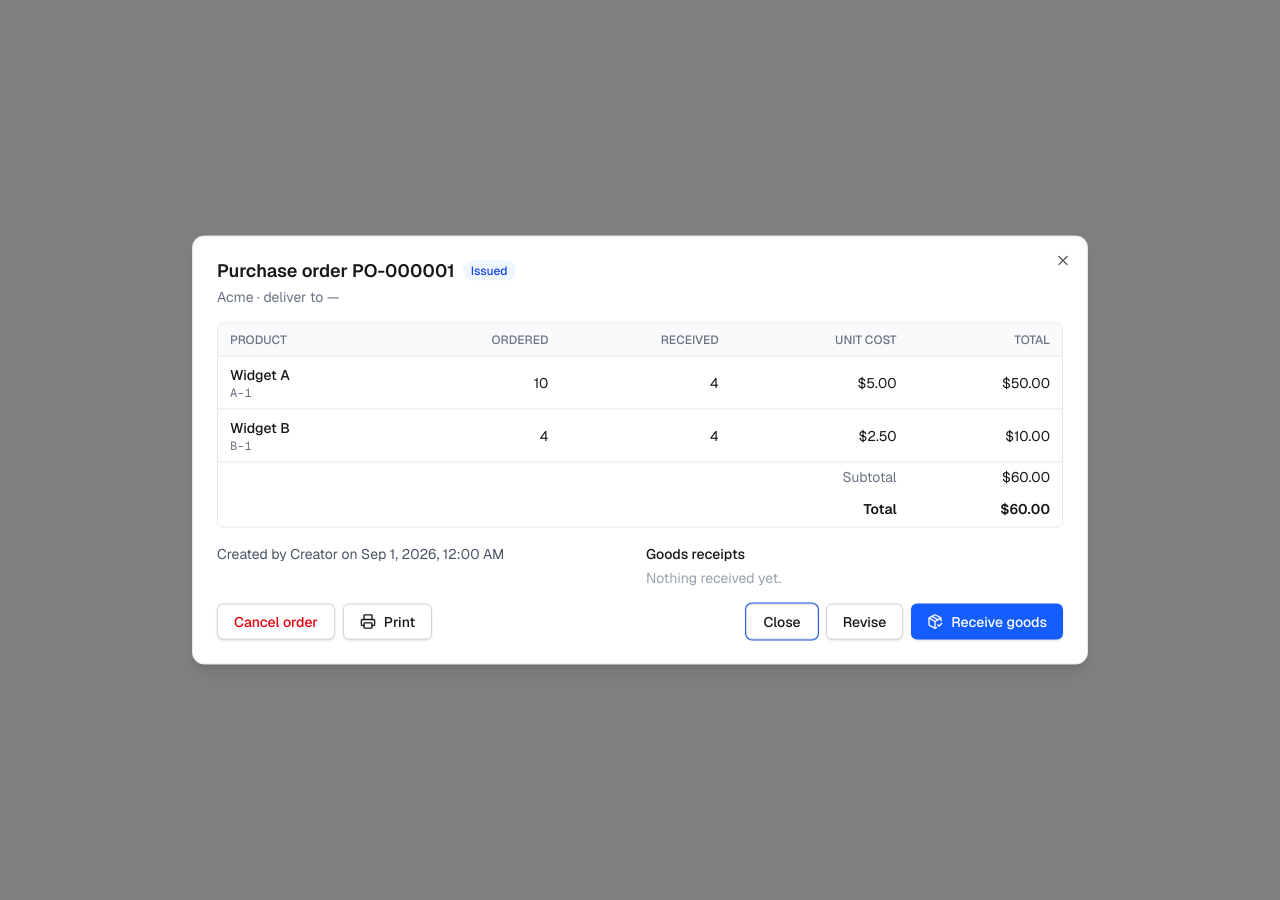
PurchaseOrderDetailDialog › receives only the outstanding lines and reuses the idempotency key on retry
Click the button "Receive goods": (987, 622) [911, 604, 1063, 640]
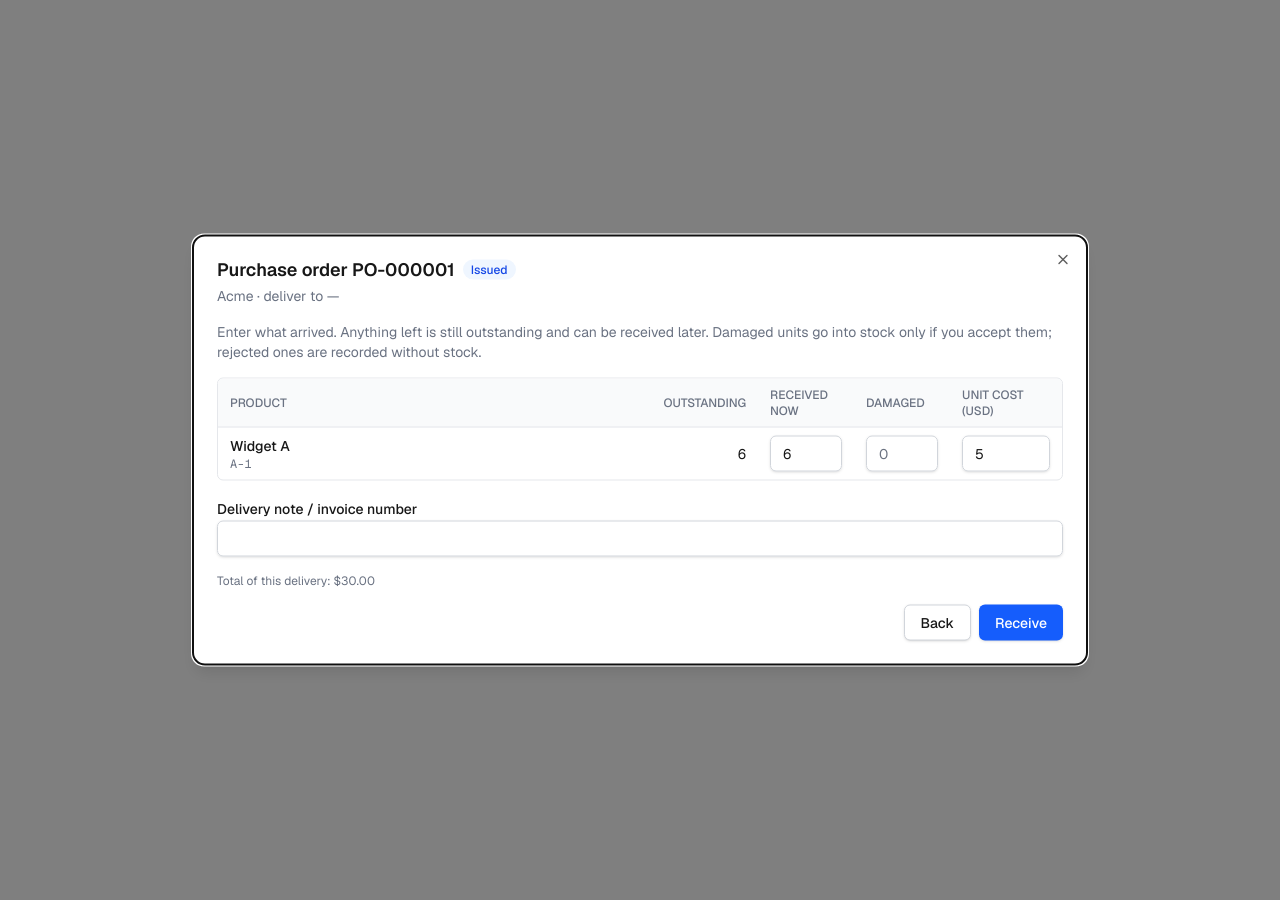
Now the field named "Received quantity for A-1" holds "6"
Replace the text in the field named "Received quantity for A-1" with "2": (806, 454) [770, 436, 842, 472]
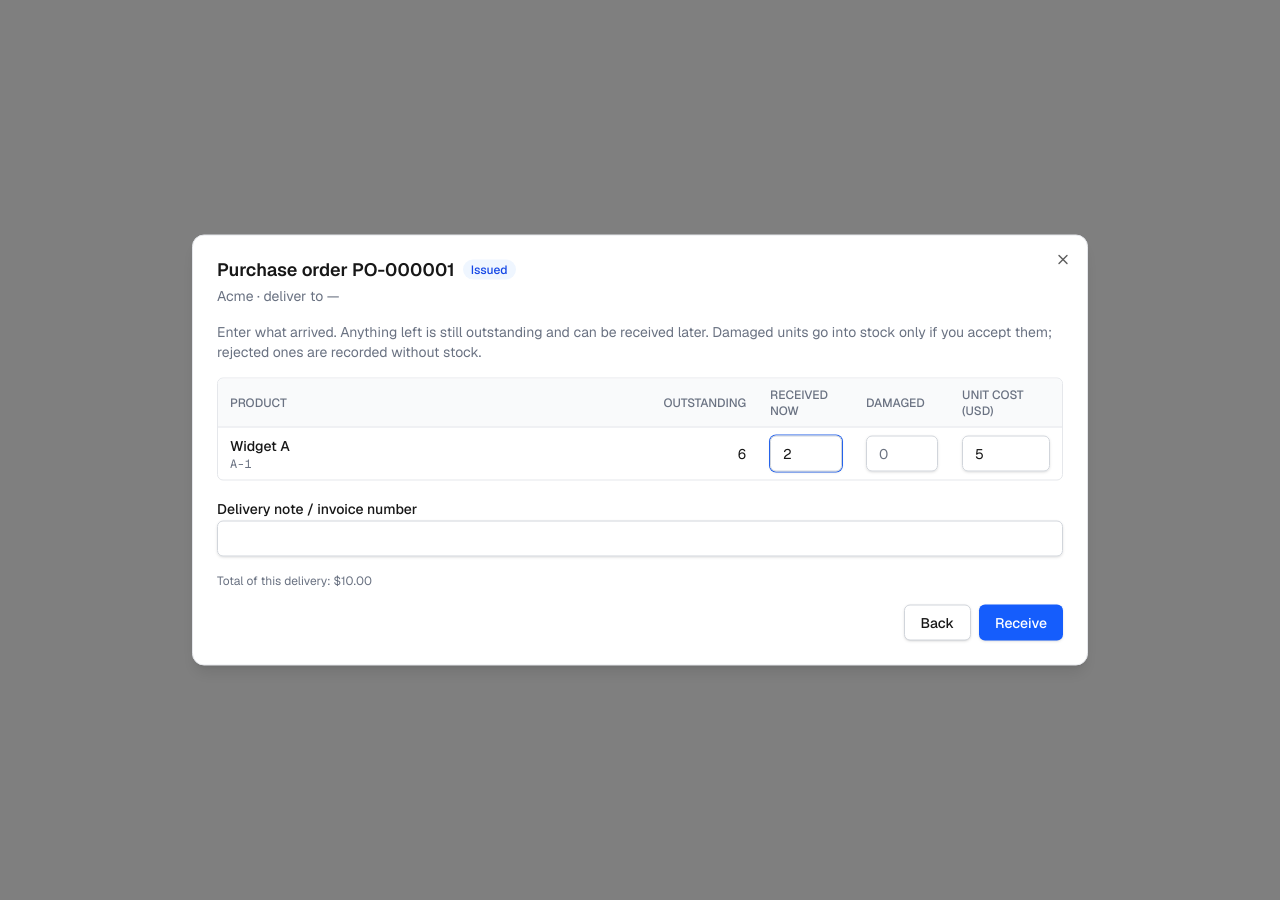
Click the button "Receive": (1021, 622) [979, 604, 1063, 640]
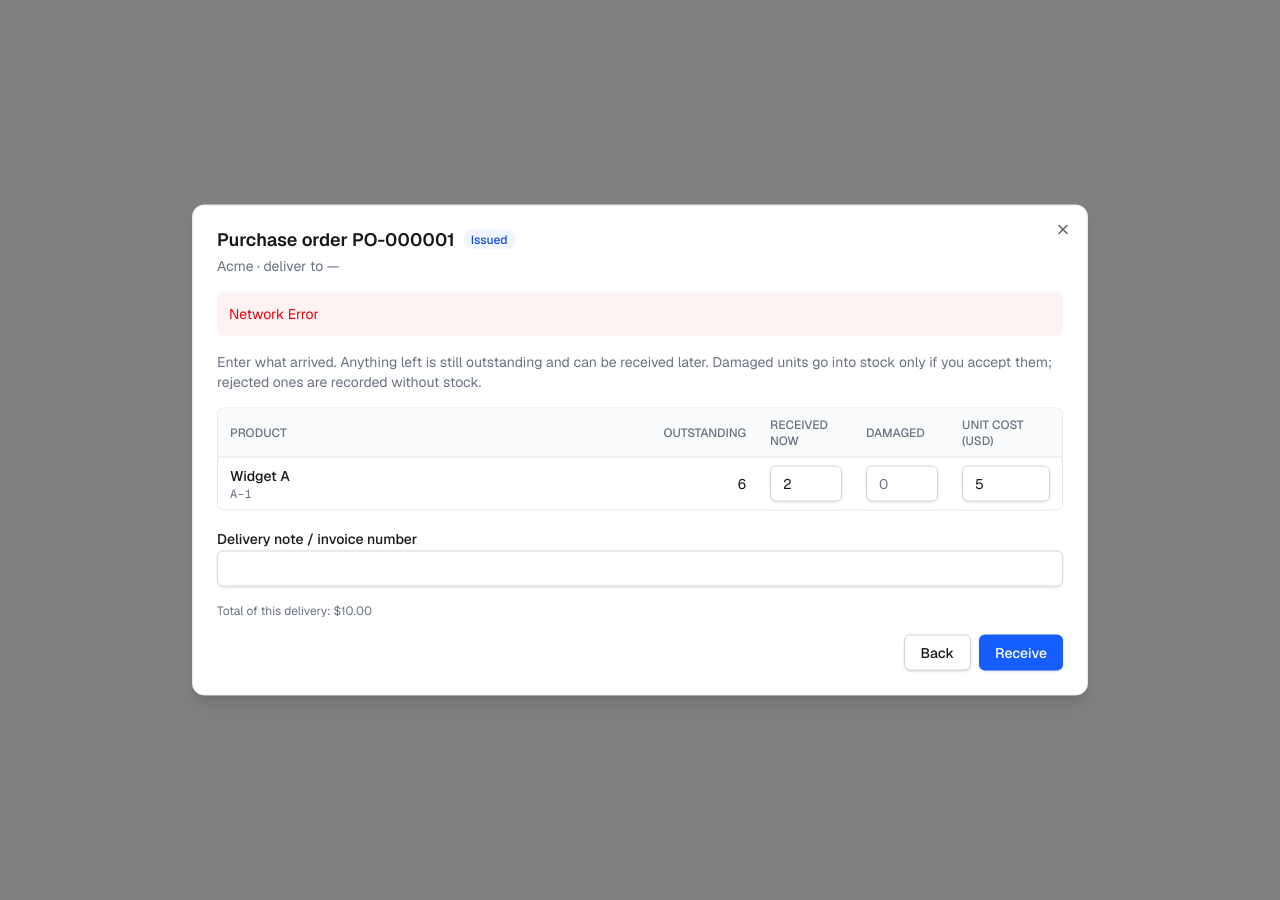
Now the text "Network Error" is shown, box [217, 292, 1063, 336]
Click the button "Receive": (1021, 652) [979, 634, 1063, 670]
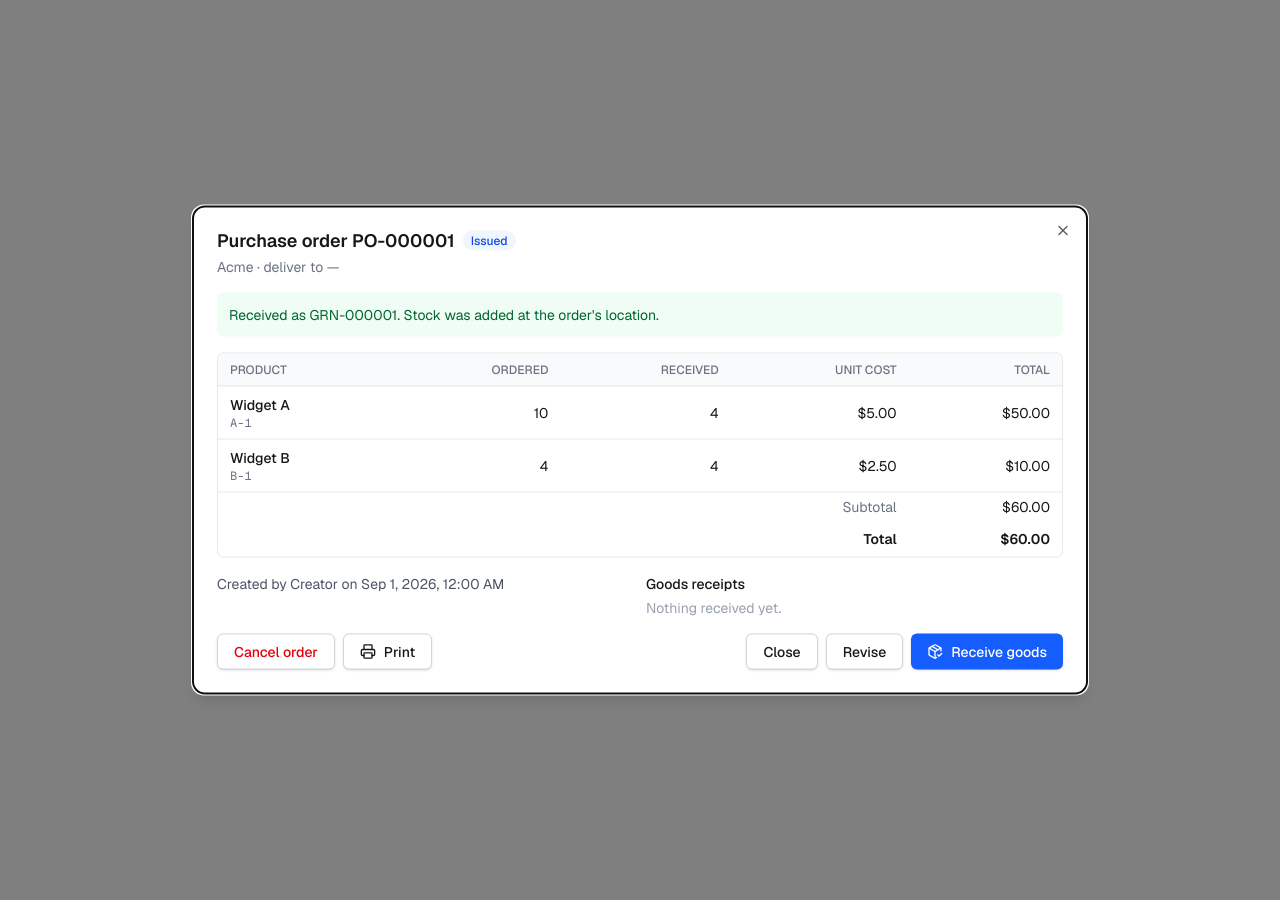
Now the text "Received as GRN-000001" is shown, box [229, 306, 659, 324]
